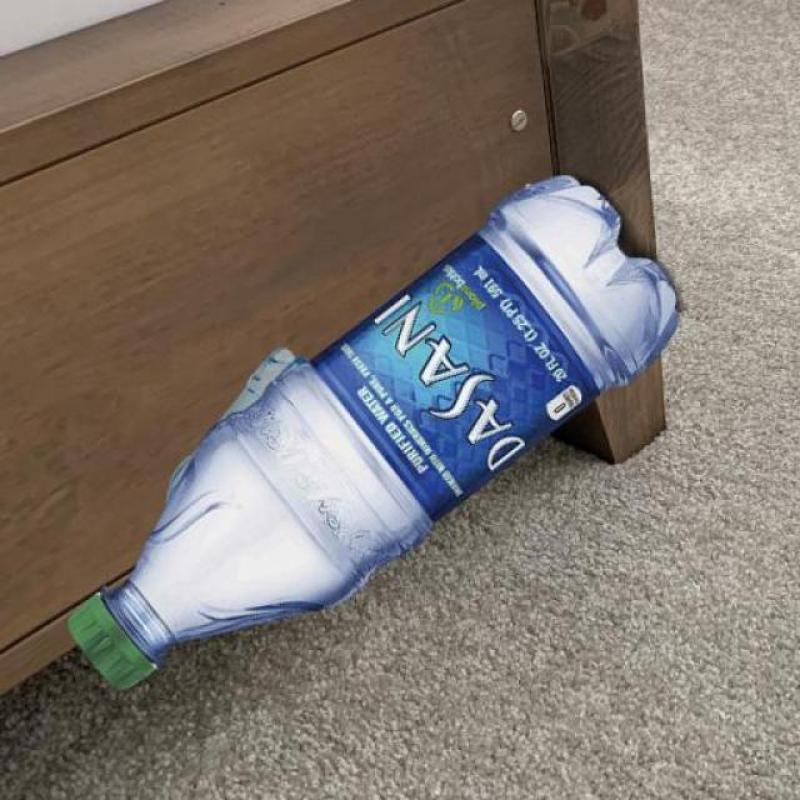botella: (69, 173, 683, 692), (163, 346, 298, 502)
